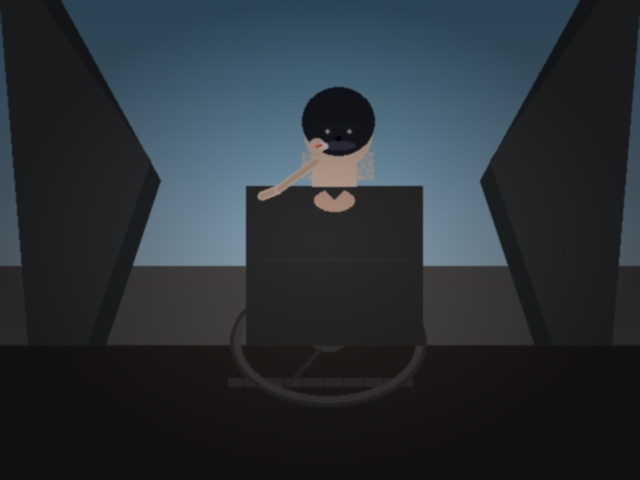smoking: (306, 131, 335, 161)
